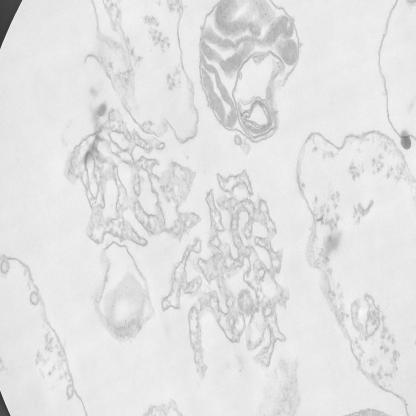mitochondria: (199, 0, 302, 138)
